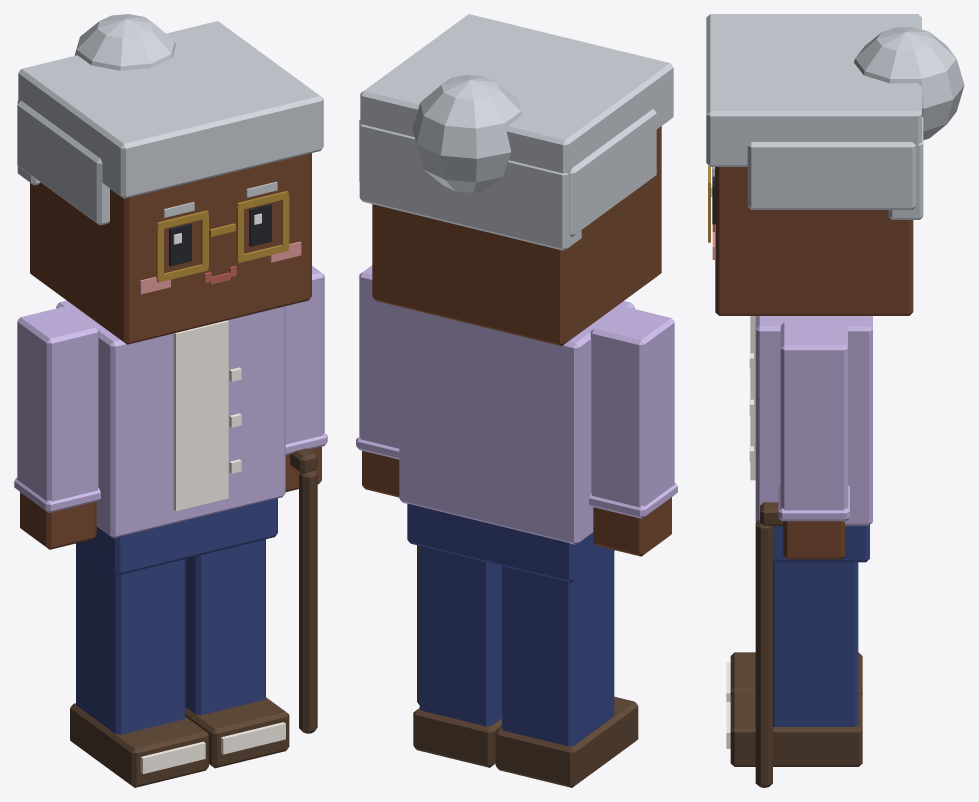
The model's file is CatCafe_NPC_Customer_C.glb.
The picture shows the model from 3 angles, left to right: view 1: azimuth 30°, elevation 25°; view 2: azimuth 150°, elevation 25°; view 3: azimuth 270°, elevation 25°; orthographic projection. The views are drawn at different scales.
Visible parts, largest first — view 1: CatCafe_NPC_Customer_C; view 2: CatCafe_NPC_Customer_C; view 3: CatCafe_NPC_Customer_C.
Boxes of the visible parts, x1,y1,x2,y2 form: CatCafe_NPC_Customer_C: (14, 14, 327, 787); CatCafe_NPC_Customer_C: (356, 14, 677, 787); CatCafe_NPC_Customer_C: (706, 14, 964, 787).
Bounding box in the file's own units: 2.25 × 5.25 × 1.76.
1 material, 1 textured.
